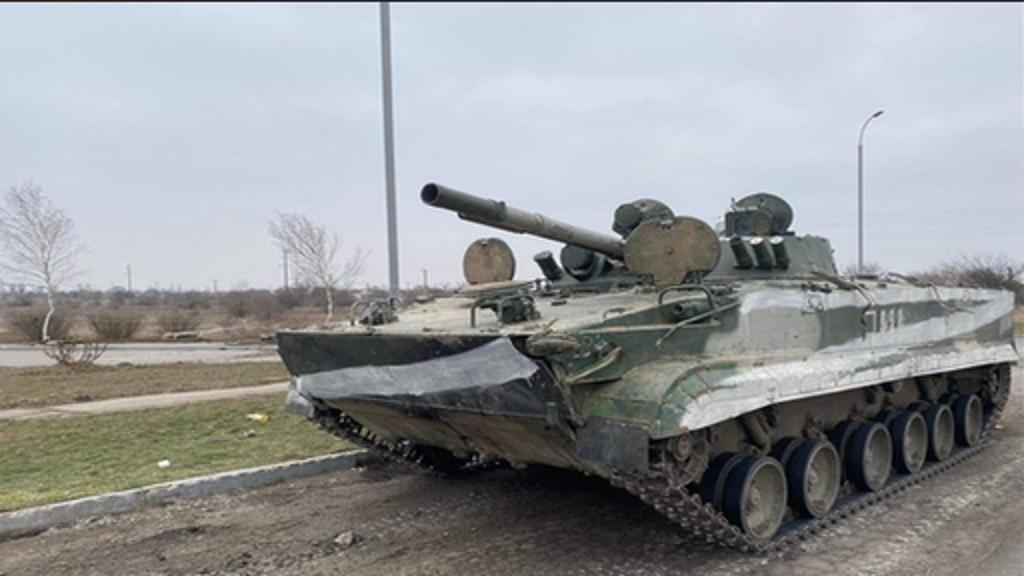APC-IFV: (276, 170, 1018, 554)
